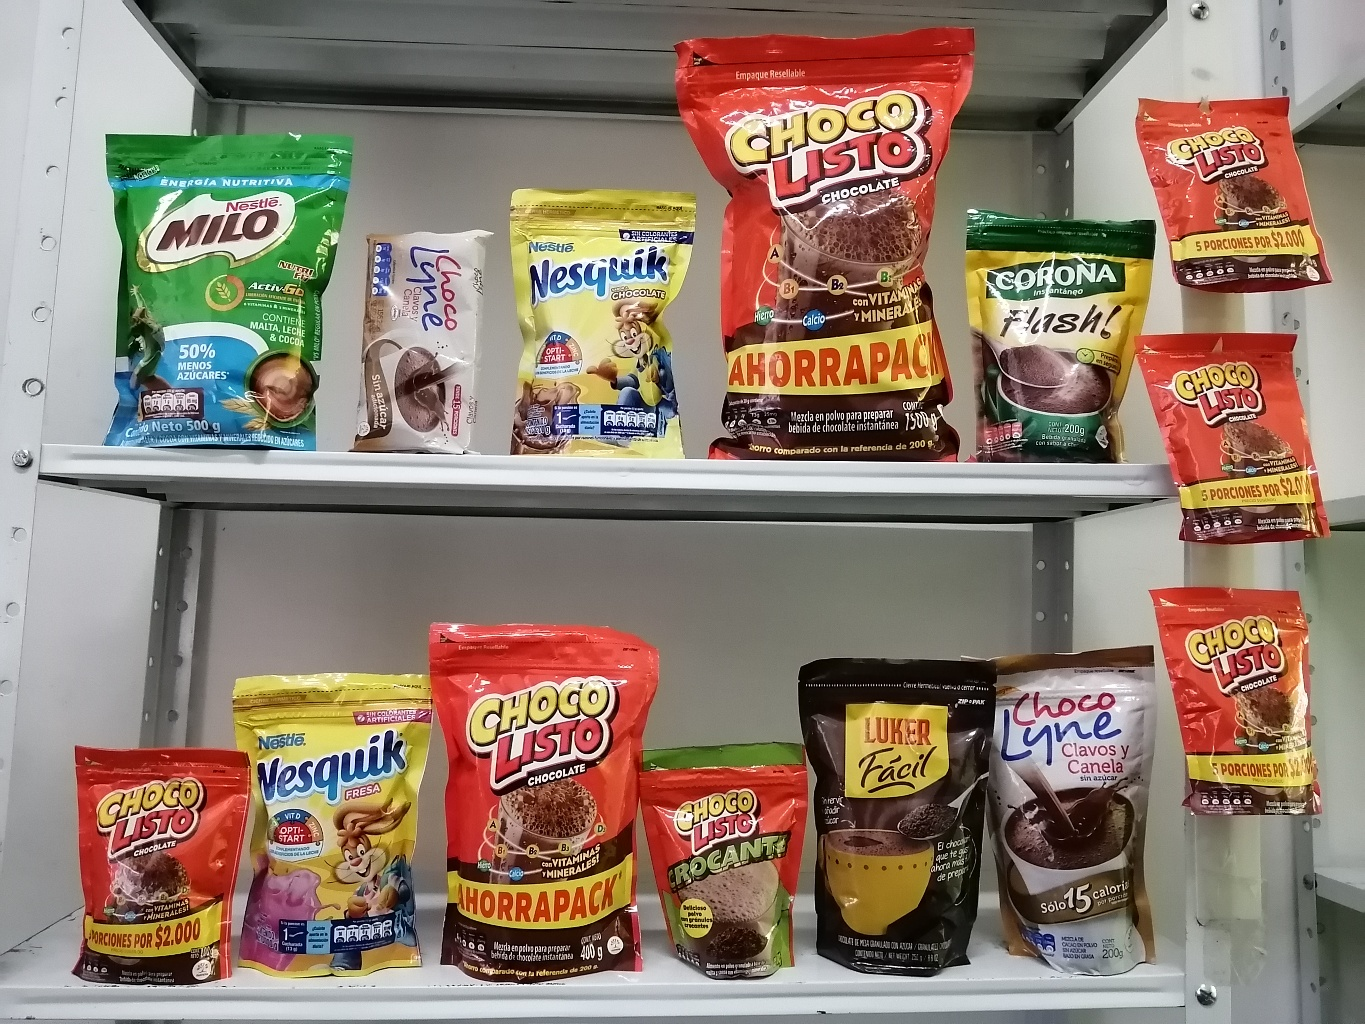COL0170102DYP10000: (632, 733, 809, 993)
COL0170103DYP1,500: (676, 54, 998, 461)
COL0170103DYP10000: (49, 746, 237, 979)
COL0170103DYP40000: (433, 618, 678, 995)
COL0170205DYP50000: (97, 133, 353, 450)
COL0170303DYP20000: (496, 184, 717, 453)
COL0170305DYP20000: (226, 679, 450, 983)
